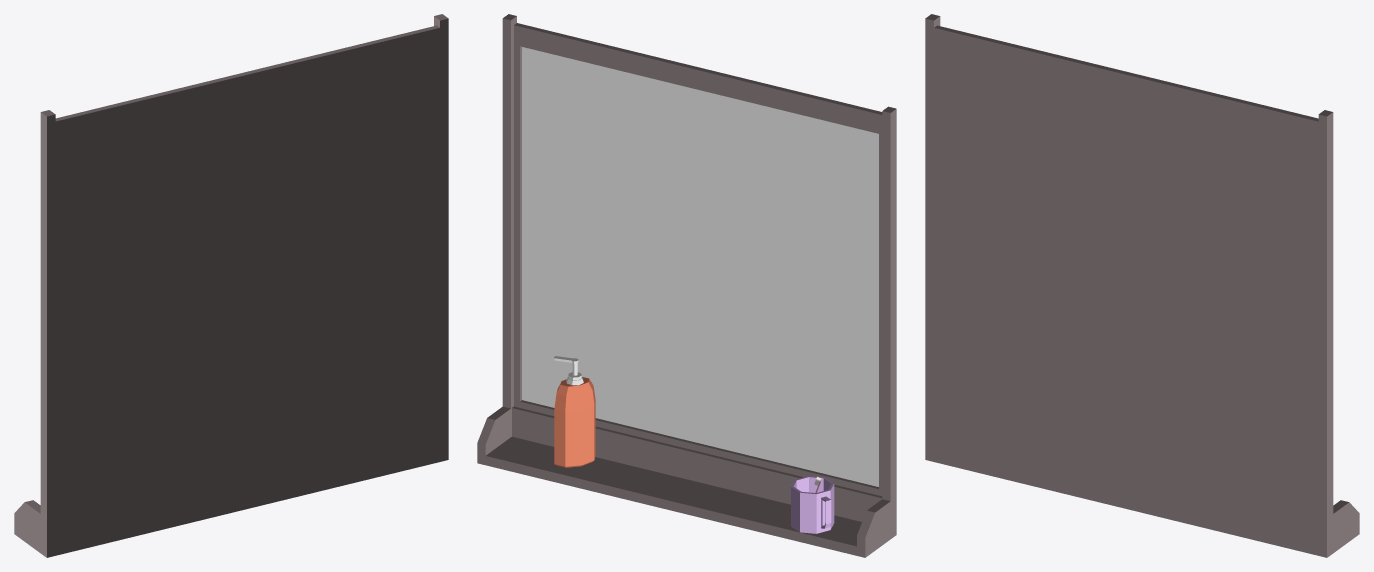
Rendered from Mirror 1.fbx.
3 renders of one model, left to right at view 1: azimuth 30°, elevation 25°; view 2: azimuth 150°, elevation 25°; view 3: azimuth 330°, elevation 25°, orthographic. The views are drawn at different scales.
Visible parts, largest first — view 1: Mirror; view 2: Mirror; view 3: Mirror.
Part boxes in pixels (<box>): Mirror: <box>14,14,448,557</box>; Mirror: <box>477,14,896,557</box>; Mirror: <box>925,14,1359,557</box>.
Size of the model in its own units: 1.27 by 1.33 by 0.2063.
